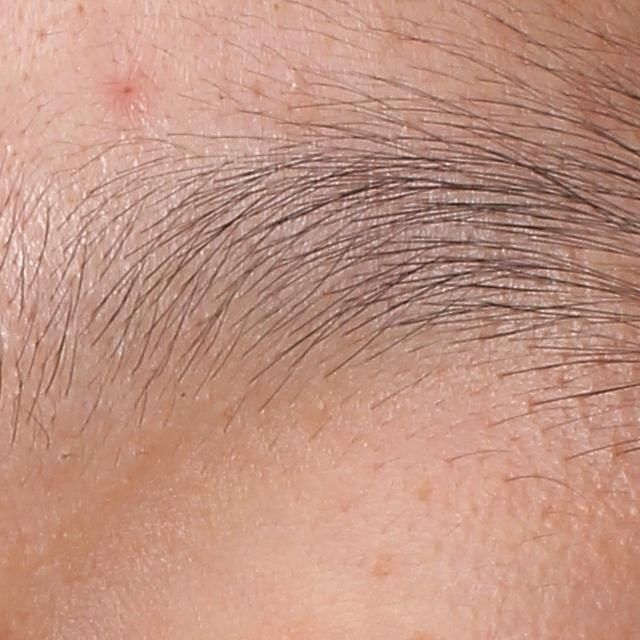comedo: (288, 76, 303, 95)
melasma: (371, 549, 401, 579)
